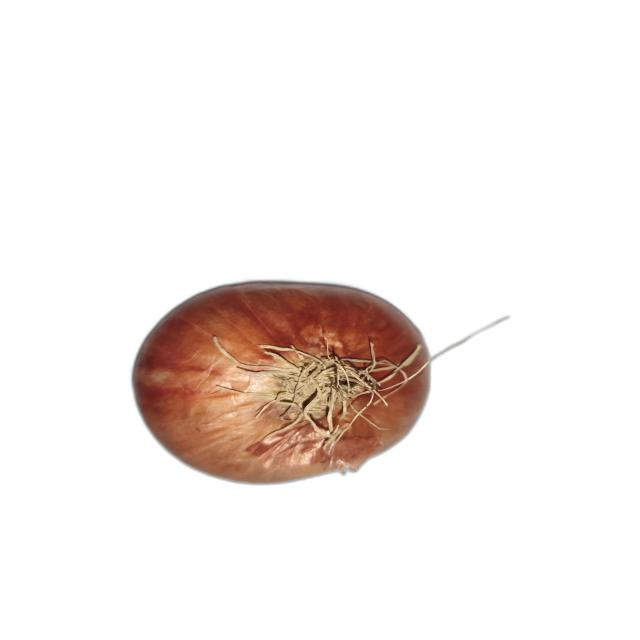onion: (132, 281, 435, 486)
